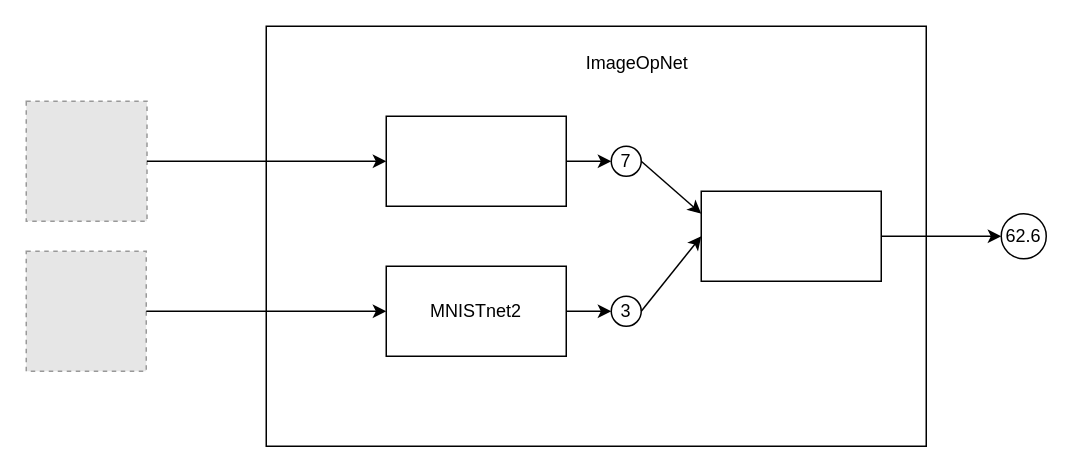
Image size: 1073x473. Some labels were removed from this diagram. Grey dashed boxes stand in for pictures. The centre of each missing label's shape, as x and y in pixels:
"MNISTnet1" belongs at (475,160).
"OpNet" belongs at (790,235).
